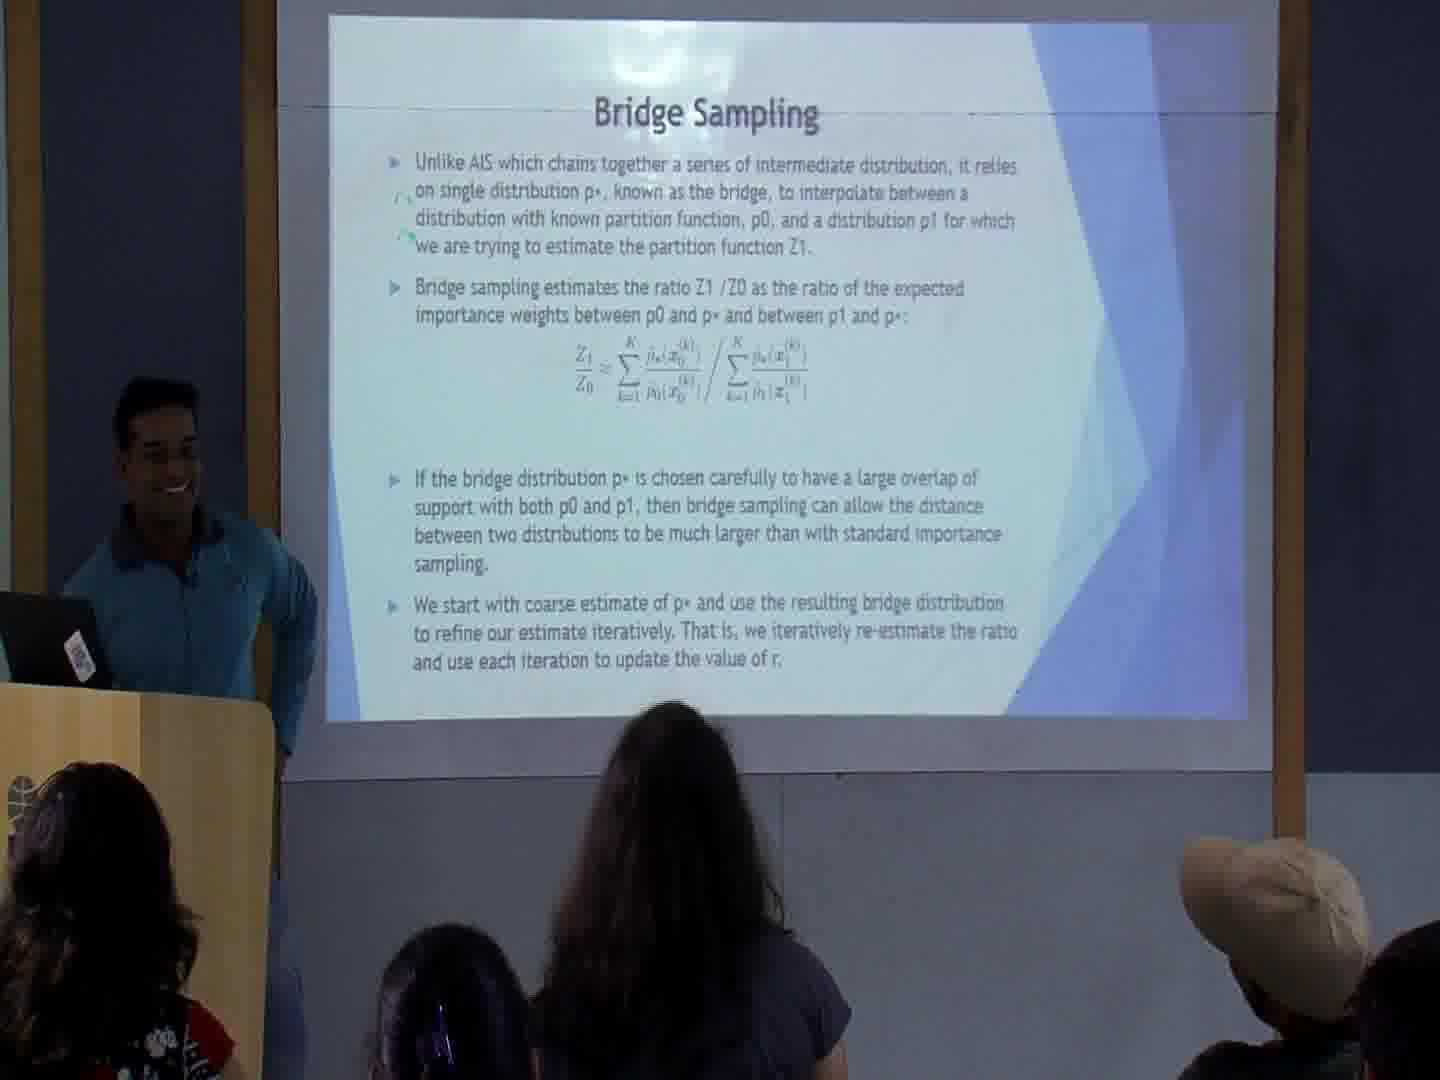eq: (570, 332, 814, 411)
